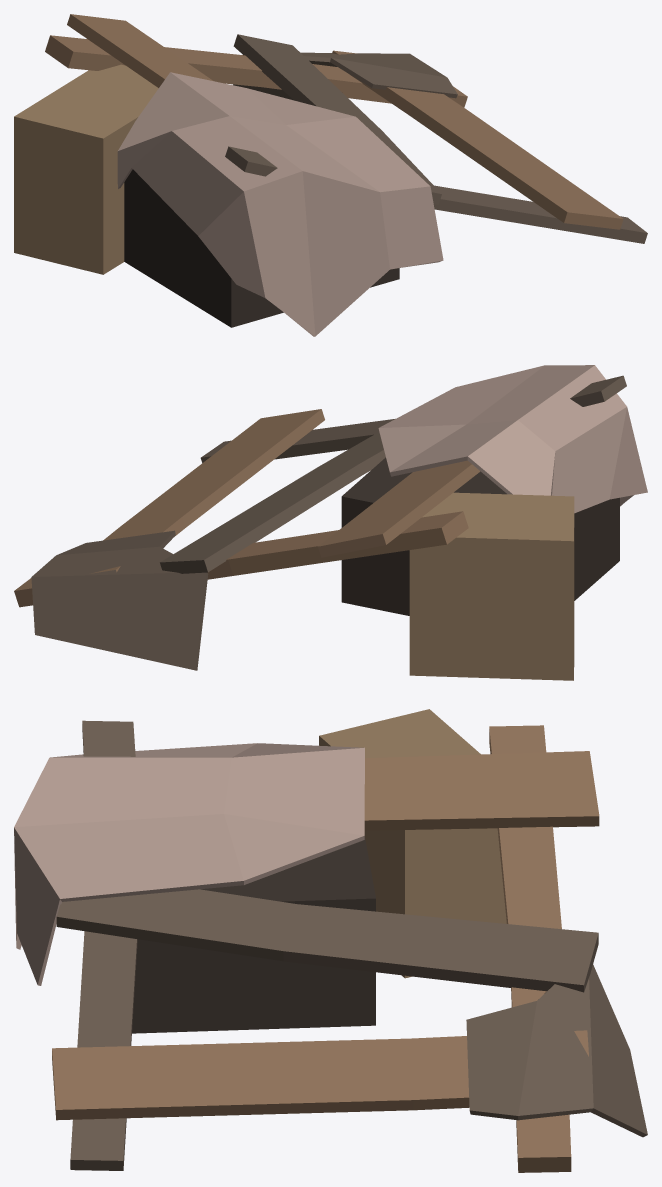
File: Amas.fbx
The picture shows the model from 3 angles, top to bottom: view 1: azimuth 30°, elevation 25°; view 2: azimuth 150°, elevation 25°; view 3: azimuth 270°, elevation 25°; orthographic projection. The views are drawn at different scales.
Parts seen in each view (by area): view 1: Amas; view 2: Amas; view 3: Amas.
Part boxes in pixels (x1,y1,x2,y2): Amas: (14, 14, 647, 336); Amas: (14, 365, 647, 680); Amas: (14, 709, 647, 1172).
Bounding box in the file's own units: 183 × 62.89 × 167.
